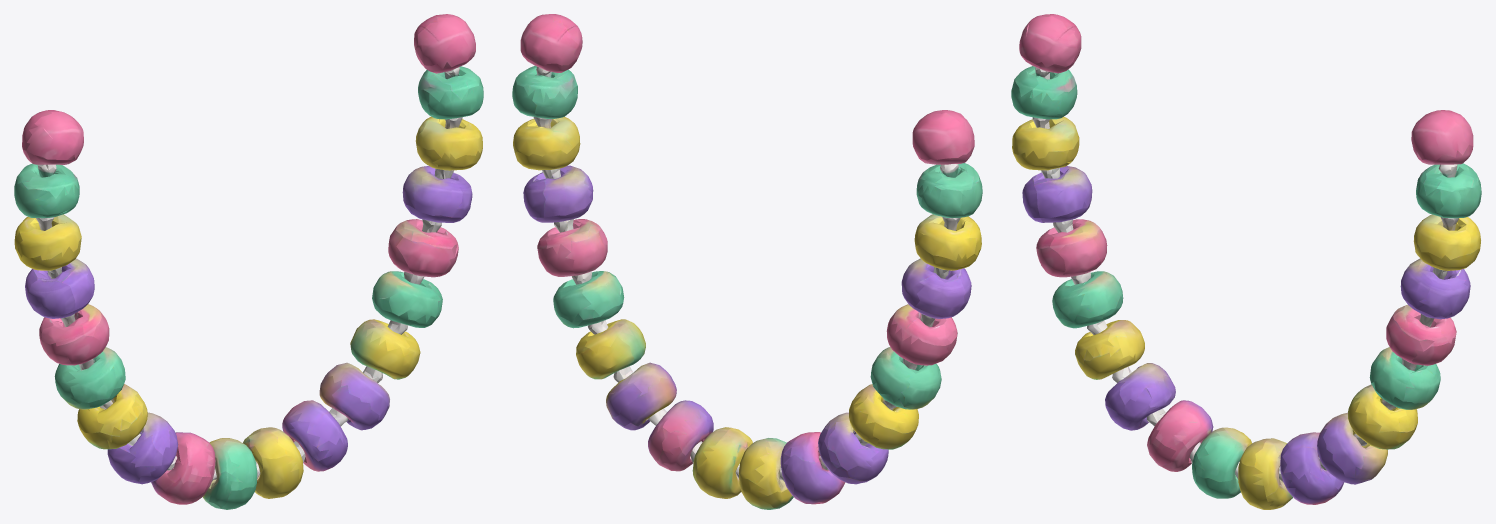
File: candy_necklace.glb
3 renders of one model, left to right at view 1: azimuth 30°, elevation 25°; view 2: azimuth 150°, elevation 25°; view 3: azimuth 330°, elevation 25°, orthographic.
Parts seen in each view (by area): view 1: Mesh_0; view 2: Mesh_0; view 3: Mesh_0.
Part boxes in pixels (x1=…): Mesh_0: x1=14, y1=14, x2=483, y2=509; Mesh_0: x1=512, y1=14, x2=982, y2=509; Mesh_0: x1=1011, y1=14, x2=1481, y2=509.
Size of the model in its own units: 1 by 0.9061 by 0.1356.
1 material, 1 textured.
